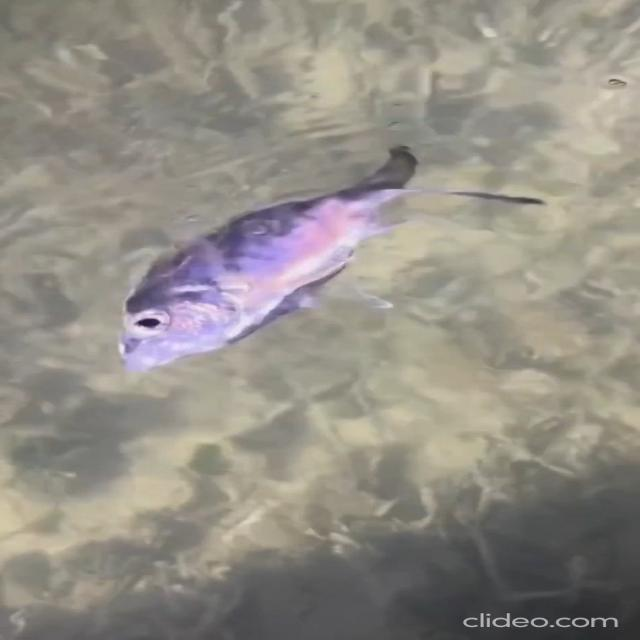fish: (109, 133, 538, 384)
